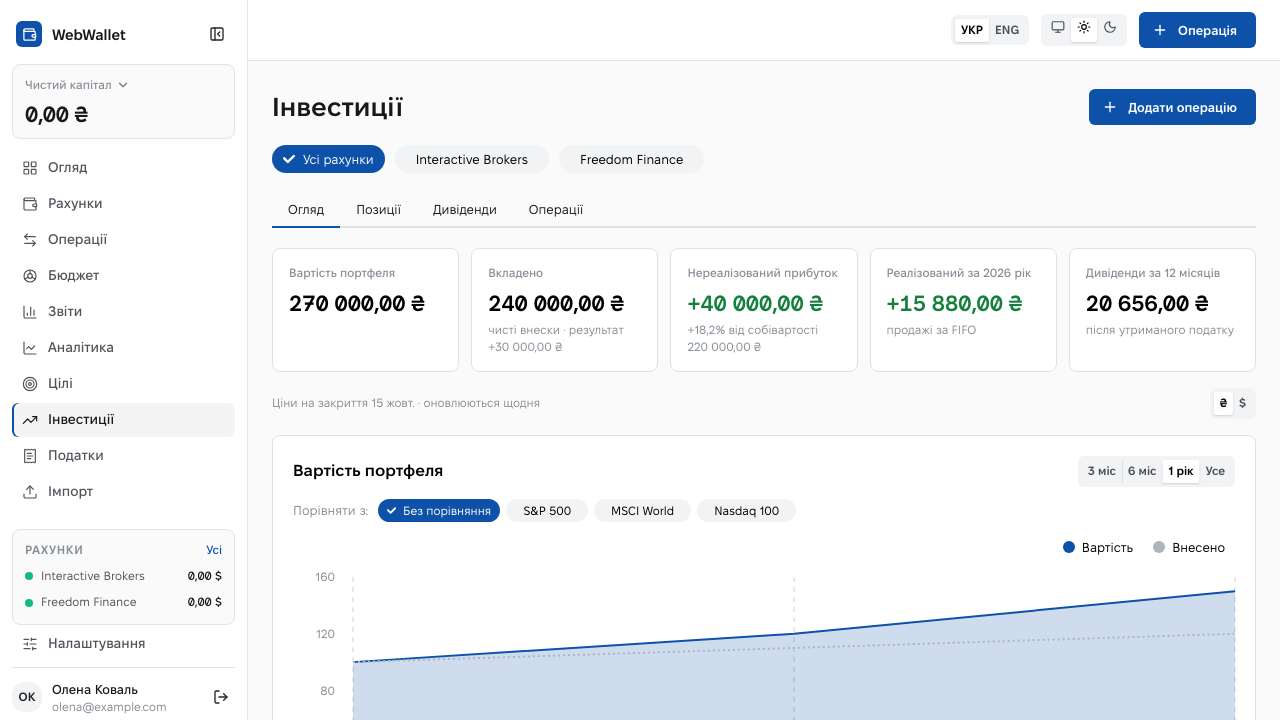
Test: says when the prices of the index are still loading
This screenshot has width=1280, height=720.
Click the 4th radio button labelled "S&P 500".
click(547, 510)  # box [506,499,588,522]
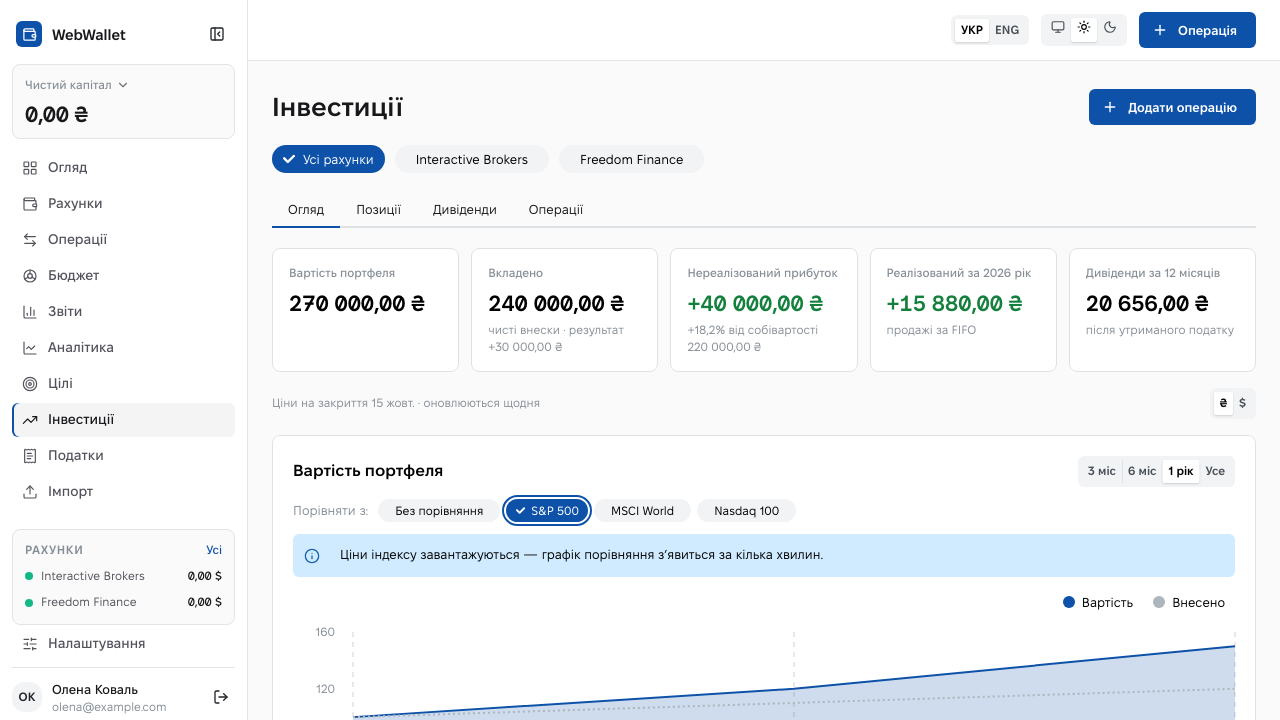
Expected: the text "Ціни індексу завантажуються" is shown, [340,547,823,561]
